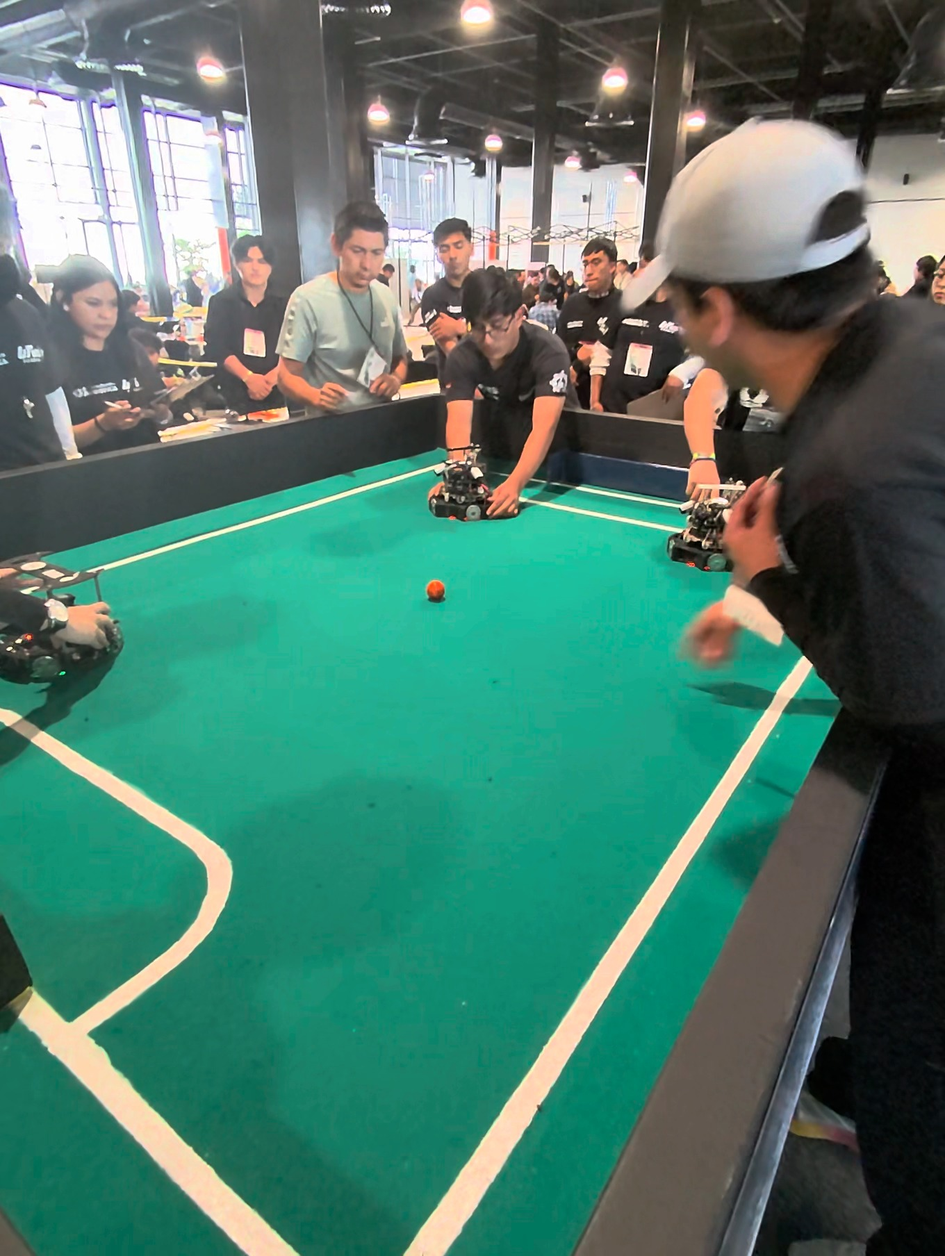Robot: (0, 544, 123, 699), (428, 440, 498, 528), (670, 486, 734, 578)
pelota: (426, 579, 444, 598)
